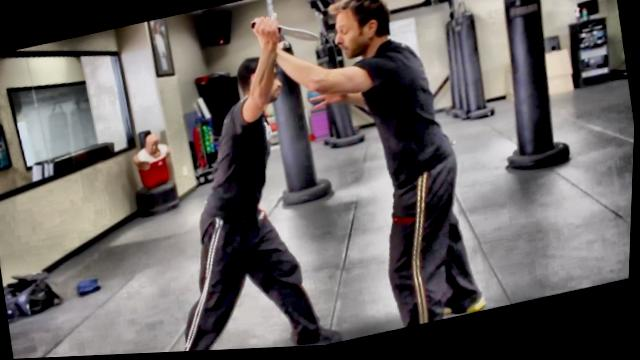knife: (246, 5, 327, 60)
